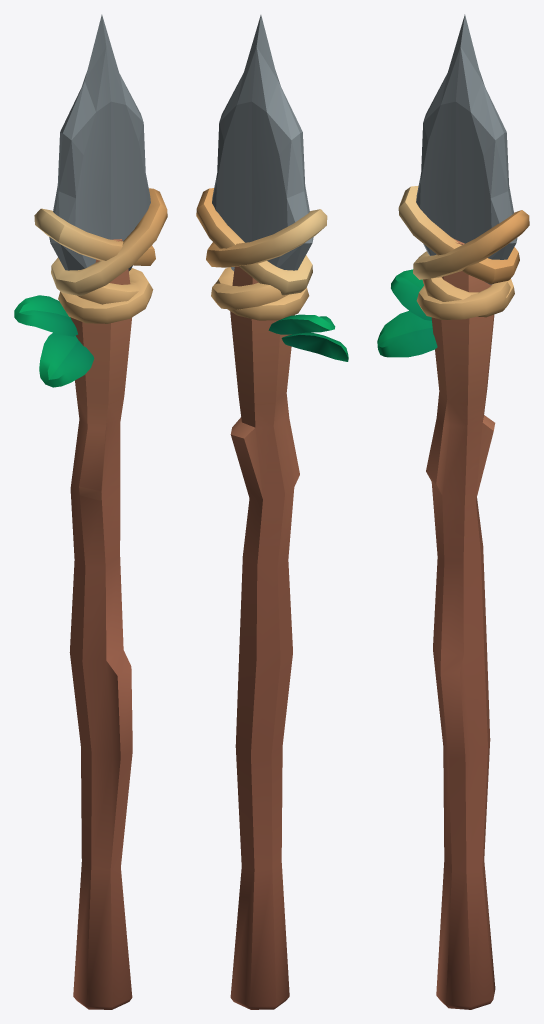
Rendered from Caveman_Spear.obj.
The picture shows the model from 3 angles, left to right: view 1: azimuth 30°, elevation 25°; view 2: azimuth 150°, elevation 25°; view 3: azimuth 330°, elevation 25°; orthographic projection.
Visible parts, largest first — view 1: Caveman_Spear; view 2: Caveman_Spear; view 3: Caveman_Spear.
Boxes of the visible parts, x1=… form: Caveman_Spear: x1=14, y1=14, x2=167, y2=1009; Caveman_Spear: x1=196, y1=15, x2=348, y2=1009; Caveman_Spear: x1=377, y1=14, x2=529, y2=1009.
Bounding box in the file's own units: 0.3649 × 2.49 × 0.2437.
Materials: 1 (1 with a texture image).
